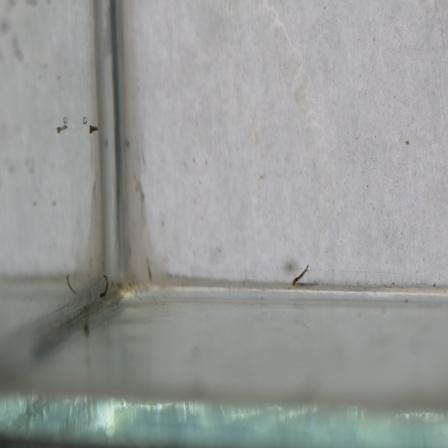Jentik-Nyamuk: (287, 261, 312, 290), (98, 272, 111, 301), (84, 120, 100, 136)
